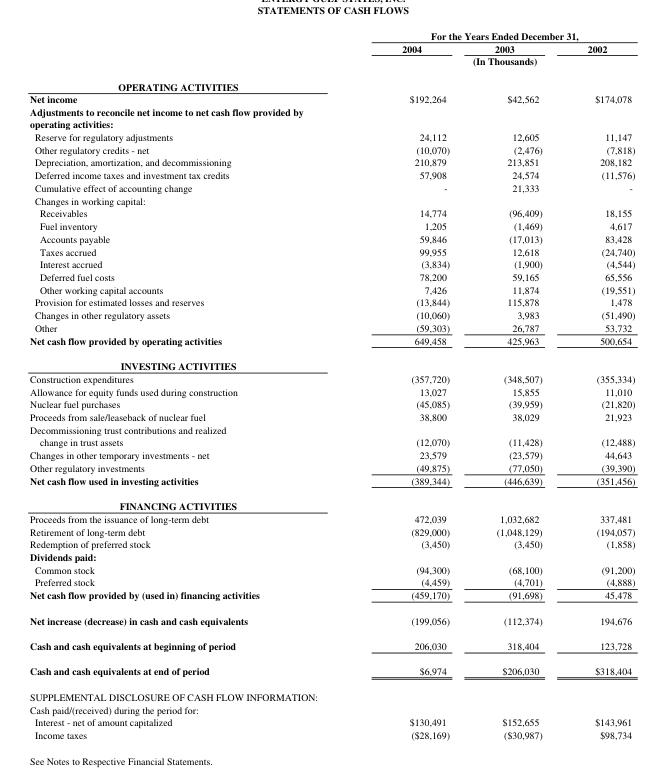table: (29, 28, 634, 740)
table column: (29, 28, 330, 740), (330, 28, 471, 740), (471, 28, 564, 740), (564, 28, 634, 740)
table column header: (29, 28, 634, 73)
table projected row header: (29, 105, 634, 129), (29, 73, 634, 92), (29, 352, 634, 371), (29, 492, 634, 511), (29, 683, 634, 702), (29, 193, 634, 206), (29, 422, 634, 435), (29, 549, 634, 562), (29, 702, 634, 715)
table row: (29, 657, 634, 683), (29, 607, 634, 632), (29, 632, 634, 657), (29, 105, 634, 129), (29, 54, 634, 73), (29, 73, 634, 92), (29, 333, 634, 352), (29, 352, 634, 371), (29, 473, 634, 492), (29, 492, 634, 511), (29, 588, 634, 607), (29, 683, 634, 702), (29, 28, 634, 41), (29, 41, 634, 54), (29, 92, 634, 105), (29, 129, 634, 142), (29, 142, 634, 155), (29, 155, 634, 168), (29, 180, 634, 193), (29, 193, 634, 206), (29, 218, 634, 231), (29, 231, 634, 244), (29, 244, 634, 257), (29, 269, 634, 282), (29, 282, 634, 295), (29, 295, 634, 308), (29, 320, 634, 333), (29, 371, 634, 384), (29, 384, 634, 397), (29, 409, 634, 422), (29, 422, 634, 435), (29, 435, 634, 448), (29, 460, 634, 473), (29, 511, 634, 524), (29, 524, 634, 537), (29, 549, 634, 562), (29, 562, 634, 575), (29, 575, 634, 588), (29, 702, 634, 715), (29, 715, 634, 728), (29, 168, 634, 180), (29, 206, 634, 218), (29, 257, 634, 269), (29, 308, 634, 320), (29, 397, 634, 409), (29, 448, 634, 460), (29, 537, 634, 549), (29, 728, 634, 740)
table spanning cell: (330, 54, 634, 73), (330, 28, 634, 41)
